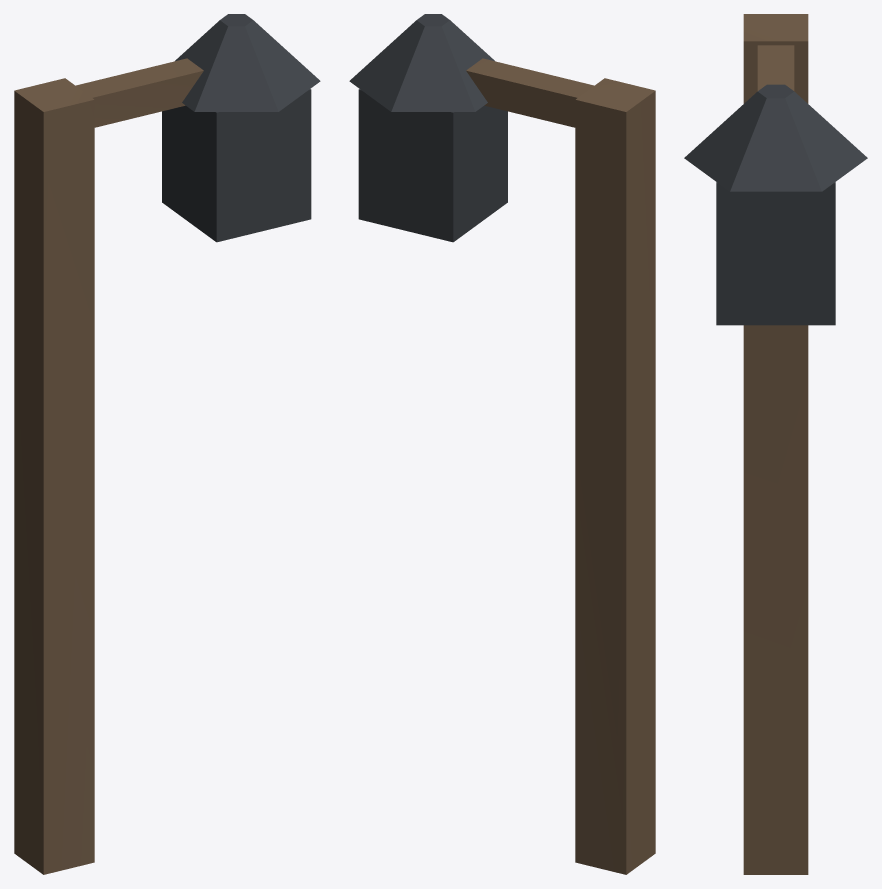
The model's file is Pier_Lantern.glb.
The picture shows the model from 3 angles, left to right: view 1: azimuth 30°, elevation 25°; view 2: azimuth 150°, elevation 25°; view 3: azimuth 270°, elevation 25°; orthographic projection. The views are drawn at different scales.
Visible parts, largest first — view 1: Pier_Lantern; view 2: Pier_Lantern; view 3: Pier_Lantern.
Boxes of the visible parts, x1=… form: Pier_Lantern: x1=14, y1=14, x2=320, y2=874; Pier_Lantern: x1=349, y1=14, x2=655, y2=874; Pier_Lantern: x1=684, y1=14, x2=867, y2=874.
Bounding box in the file's own units: 0.7432 × 2.08 × 0.4.
